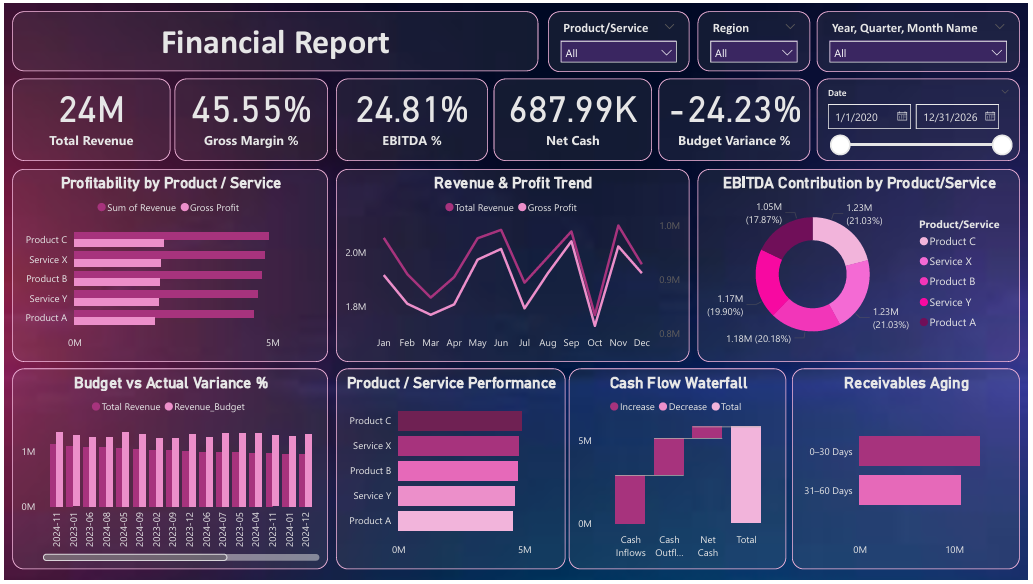

The dashboard page shown, as its layout file describes it:
{"tool":"powerbi","page":{"name":"Dashboard","canvas":[1280,720],"ordinal":0},"visuals":[{"type":"card","fields":{"Values":["Fact_Financials.Total Revenue"]},"box":[9.9,93.5,198.4,103.5],"z":0},{"type":"card","fields":{"Values":["Fact_Financials.Net Cash"]},"box":[612,93.5,198.4,103.5],"z":1000},{"type":"lineChart","title":"Revenue & Profit Trend","fields":{"Y":["Fact_Financials.Total Revenue"],"Category":["Date_Table.Date Hierarchy.Year","Date_Table.Date Hierarchy.Month Name","Date_Table.Date Hierarchy.Quarter"],"Y2":["Fact_Financials.Gross Profit"]},"box":[415.3,206.9,442.2,240.9],"z":2000},{"type":"clusteredBarChart","title":"Product / Service Performance","fields":{"Category":["Table1.Product/Service"],"Y":["Fact_Financials.Total Revenue"]},"box":[415.3,456.4,286.3,250.9],"z":3000},{"type":"waterfallChart","title":"Cash Flow Waterfall","fields":{"Category":["CashFlow_Category.Category"],"Y":["CashFlow_Category.Cash Flow Waterfall Value"]},"box":[706,456.4,272.1,250.9],"z":4000},{"type":"card","fields":{"Values":["Fact_Financials.Budget Variance %"]},"box":[817.8,93.5,189.9,103.5],"z":5000},{"type":"slicer","fields":{"Values":["Date_Table.Year","Date_Table.Quarter","Date_Table.Month Name"]},"box":[1016.2,9.9,253.7,76.5],"z":6000},{"type":"slicer","fields":{"Values":["Fact_Financials.Region"]},"box":[867.4,9.9,140.3,75.1],"z":7000},{"type":"slicer","fields":{"Values":["Fact_Financials.Product/Service"]},"box":[680.3,9.9,177.2,76.5],"z":8000},{"type":"slicer","fields":{"Values":["Date_Table.Date"]},"box":[1016.2,93.5,253.7,103.5],"z":10000},{"type":"textbox","box":[9.9,9.9,657.6,75.1],"z":11000},{"type":"clusteredBarChart","title":"Profitability by Product / Service","fields":{"Y":["Sum(Fact_Financials.Revenue)","Fact_Financials.Gross Profit"],"Category":["Fact_Financials.Product/Service"]},"box":[9.9,206.9,395.4,240.9],"z":12000},{"type":"donutChart","title":"EBITDA Contribution by Product/Service","fields":{"Category":["Fact_Financials.Product/Service"],"Y":["Fact_Financials.EBITDA"]},"box":[867.4,206.9,402.5,240.9],"z":13000},{"type":"card","fields":{"Values":["Fact_Financials.Gross Margin %"]},"box":[212.6,93.5,192.8,103.5],"z":14000},{"type":"card","fields":{"Values":["Fact_Financials.EBITDA %"]},"box":[415.3,93.5,189.9,103.5],"z":15000},{"type":"clusteredColumnChart","title":"Budget vs Actual Variance %","fields":{"Category":["Date_Table.Year-Month"],"Y":["Fact_Financials.Total Revenue","Fact_Financials.Revenue_Budget"]},"box":[9.9,456.4,395.4,250.9],"z":16000},{"type":"barChart","title":"Receivables Aging","fields":{"Category":["Fact_Financials.Receivable Bucket"],"Y":["Fact_Financials.Total Revenue"]},"box":[985,456.4,284.9,250.9],"z":17000}]}

Visuals, with their boxes in screenshot pixels (x1, y1, x2, y2), scaled from the page's 1280x720 canvas onto the 1033x584 screenshot:
card - Fact_Financials.Total Revenue: 8 76 168 160
card - Fact_Financials.Net Cash: 494 76 654 160
"Revenue & Profit Trend" lineChart: 335 168 692 363
"Product / Service Performance" clusteredBarChart: 335 370 566 574
"Cash Flow Waterfall" waterfallChart: 570 370 789 574
card - Fact_Financials.Budget Variance %: 660 76 813 160
slicer - Date_Table.Year x Date_Table.Quarter: 820 8 1025 70
slicer - Fact_Financials.Region: 700 8 813 69
slicer - Fact_Financials.Product/Service: 549 8 692 70
slicer - Date_Table.Date: 820 76 1025 160
textbox: 8 8 539 69
"Profitability by Product / Service" clusteredBarChart: 8 168 327 363
"EBITDA Contribution by Product/Service" donutChart: 700 168 1025 363
card - Fact_Financials.Gross Margin %: 172 76 327 160
card - Fact_Financials.EBITDA %: 335 76 488 160
"Budget vs Actual Variance %" clusteredColumnChart: 8 370 327 574
"Receivables Aging" barChart: 795 370 1025 574
